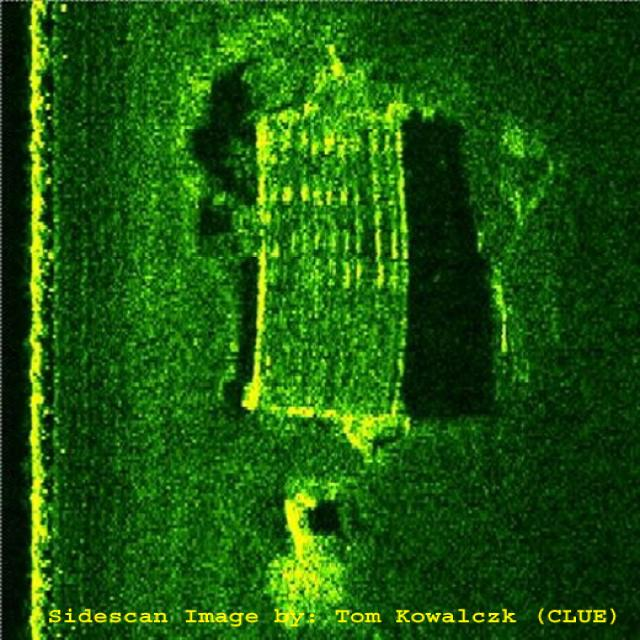ship: (245, 44, 412, 428)
